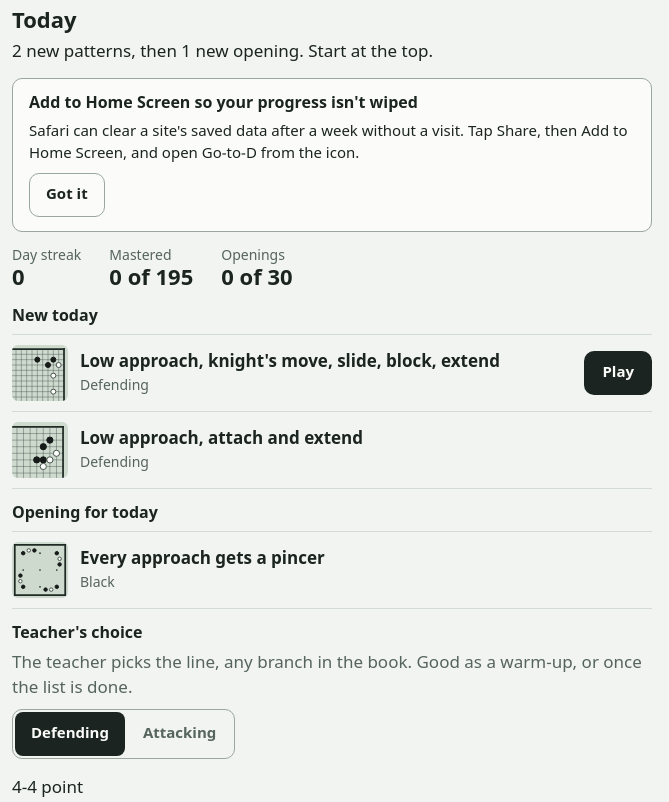
Test: Today › on iOS outside the Home Screen app, shows the install hint until it is dismissed
The width and height of the screenshot is (669, 802).
Expected: the heading "Add to Home Screen so your progress isn't wiped" is shown, x1=29 y1=91 x2=418 y2=115
Click the button "Got it" at (67, 195), box x1=29 y1=173 x2=105 y2=217
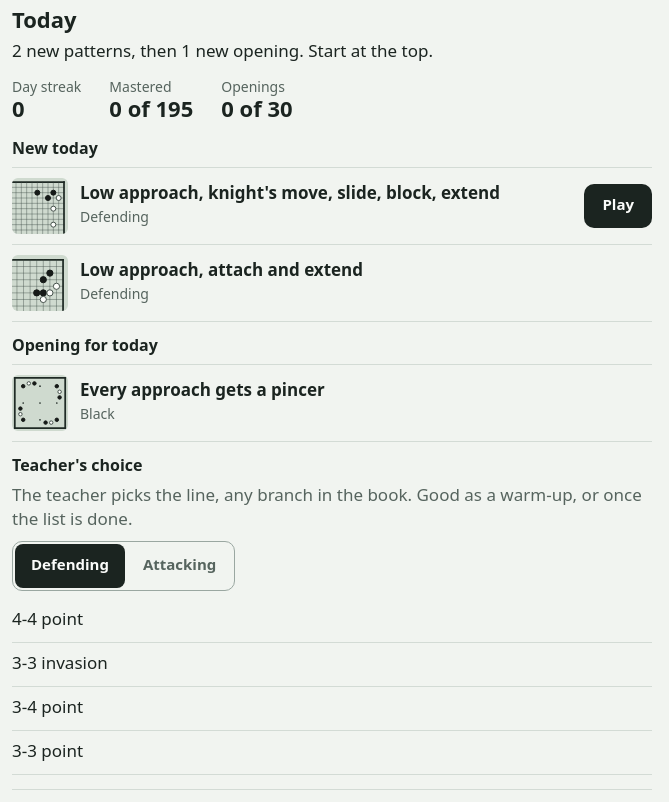
Now the heading "Add to Home Screen so your progress isn't wiped" is gone
